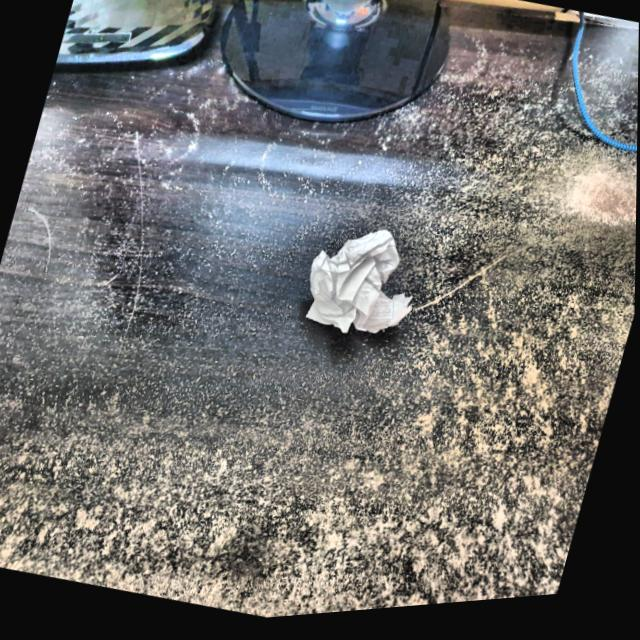Paper: (296, 213, 439, 367)
